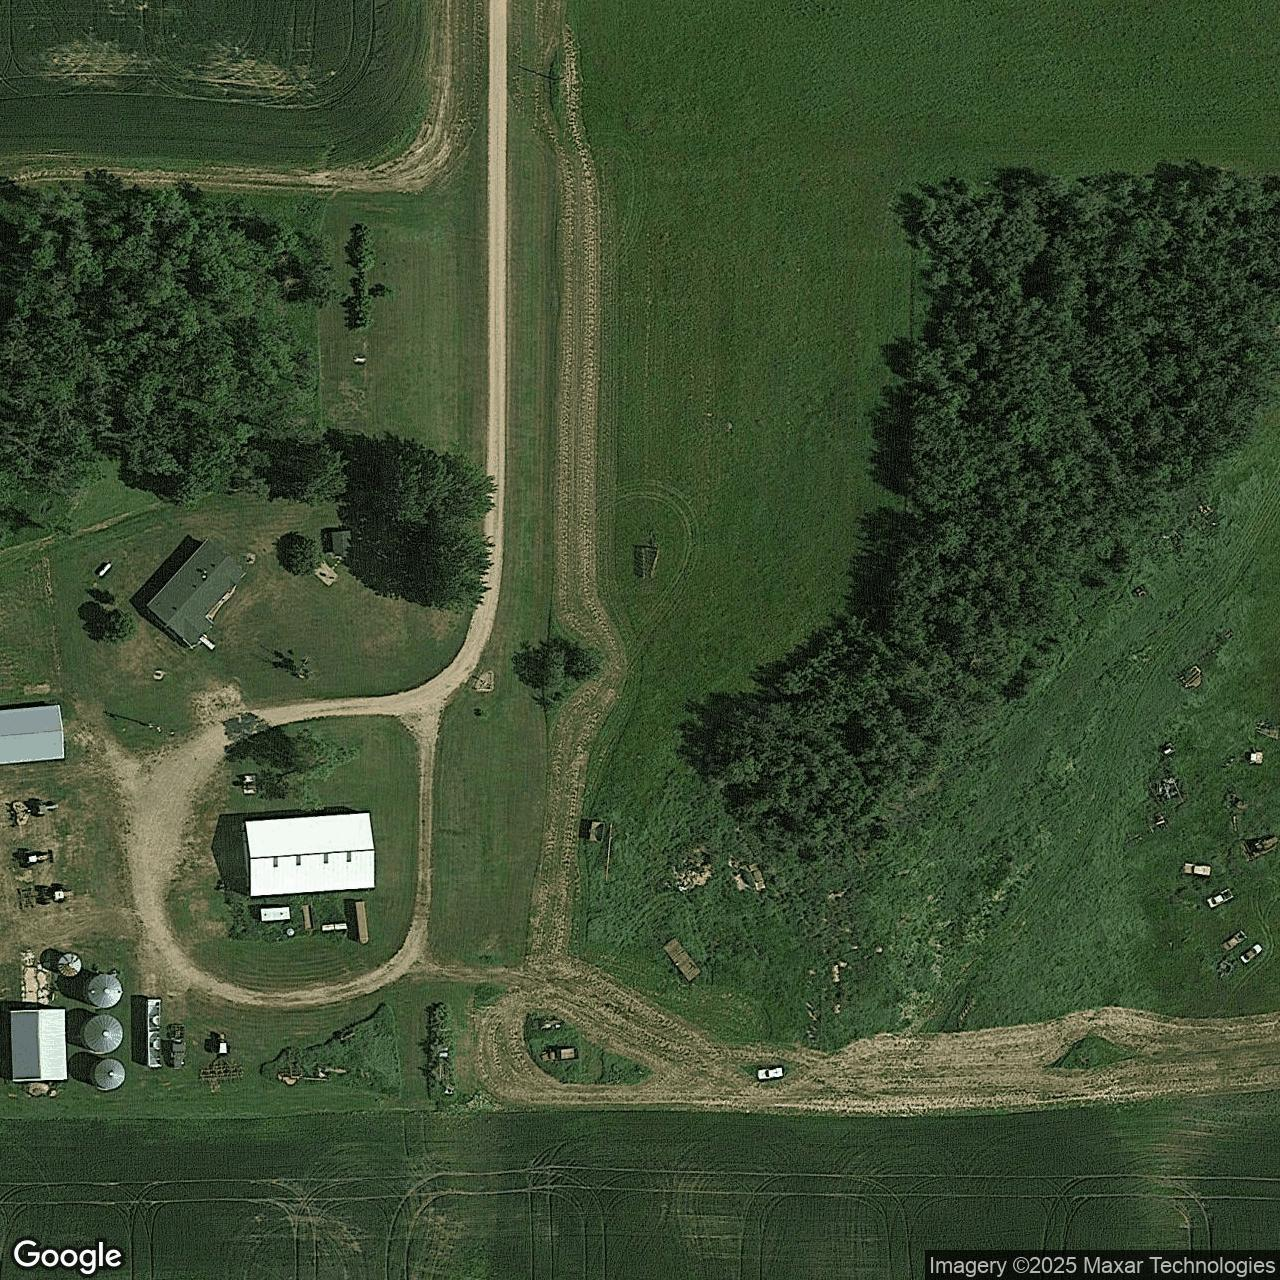Garage: (12, 1009, 68, 1081), (0, 706, 64, 764)
House: (147, 538, 247, 649)
Other: (241, 811, 375, 897)
Propane: (95, 559, 116, 580)
